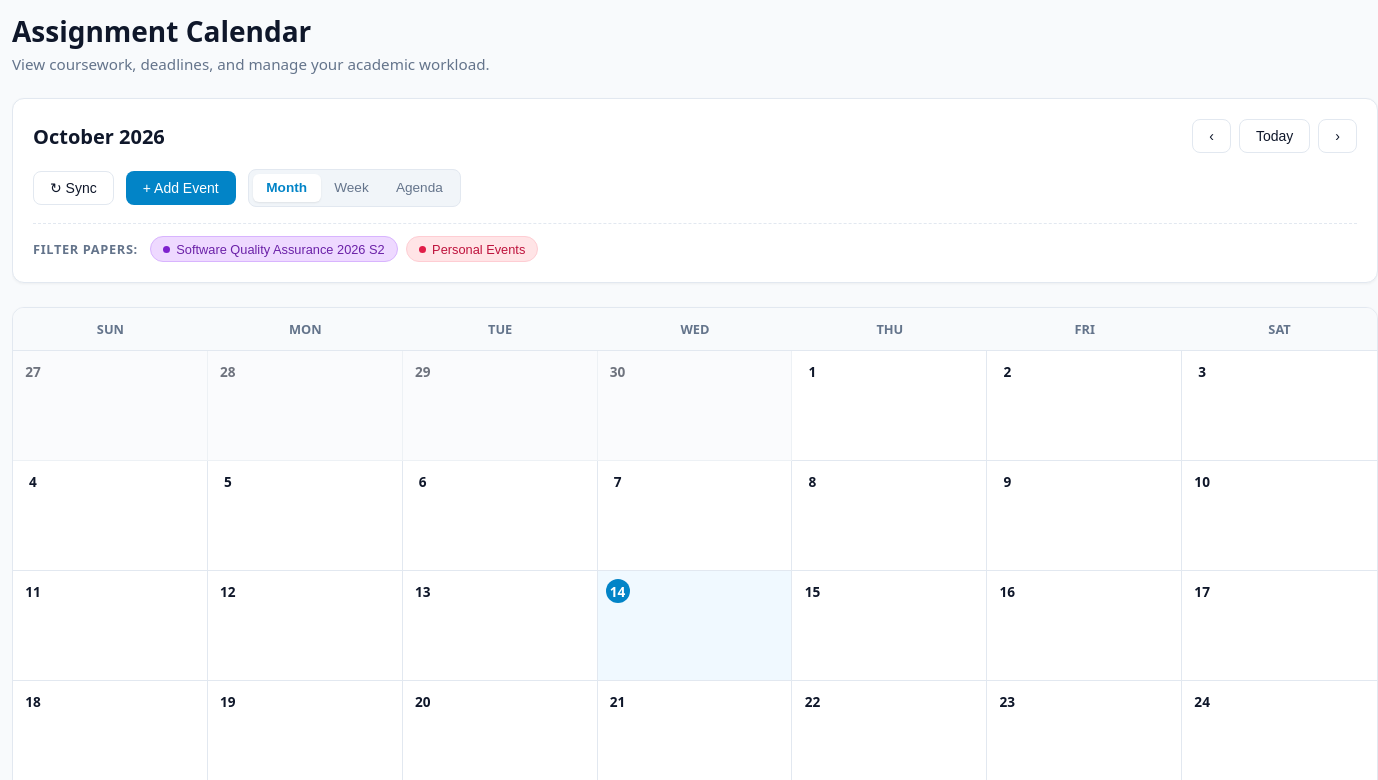
Test: Calendar sync - keeping data current (FR-11) › TC-20: merges live Canvas events and prunes stale Canvas events from the local cache
Click the button "Agenda".
click(419, 188)  # box [382,174,456,202]
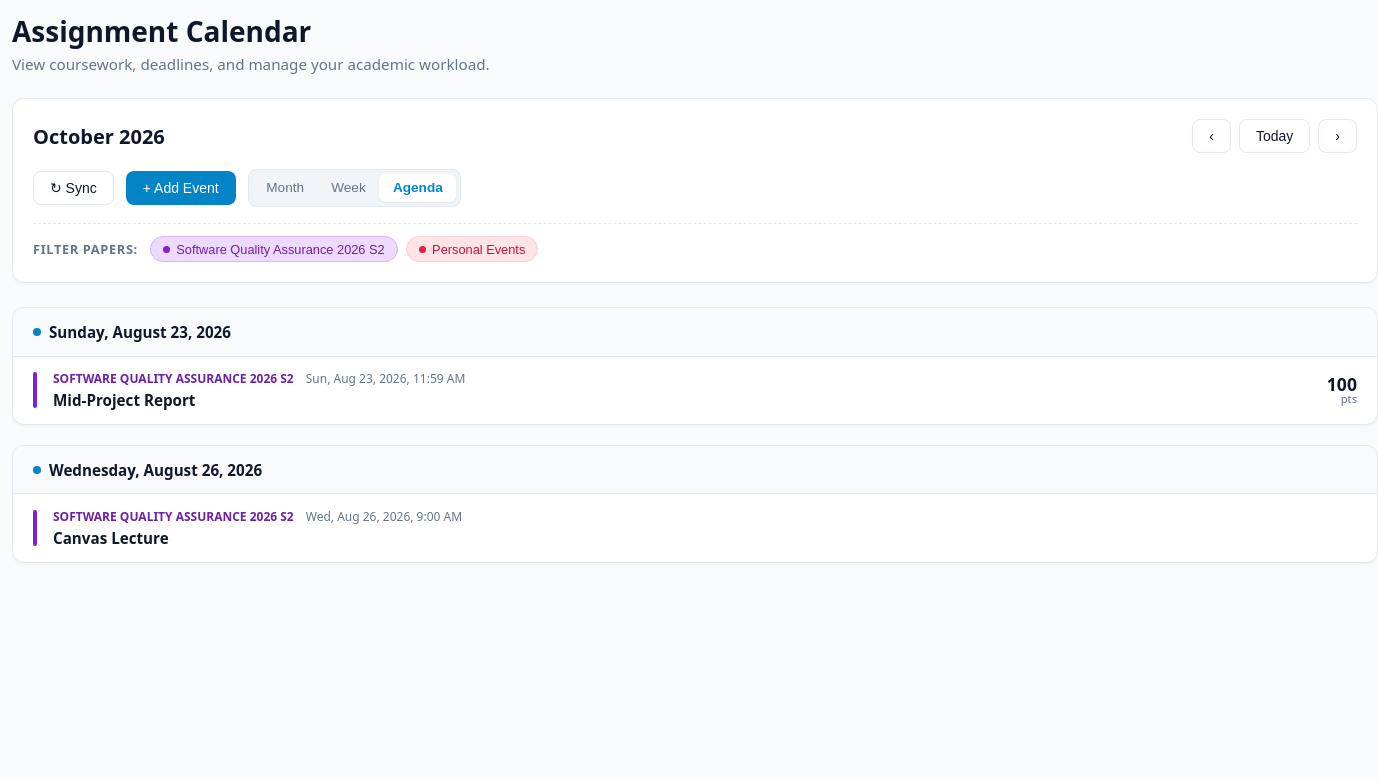
Check: the text "Old Cached Canvas Event" is not shown
Check: the heading "Canvas Lecture" is shown, box [53,528,169,548]
Check: the heading "Mid-Project Report" is shown, box [53,390,196,410]
